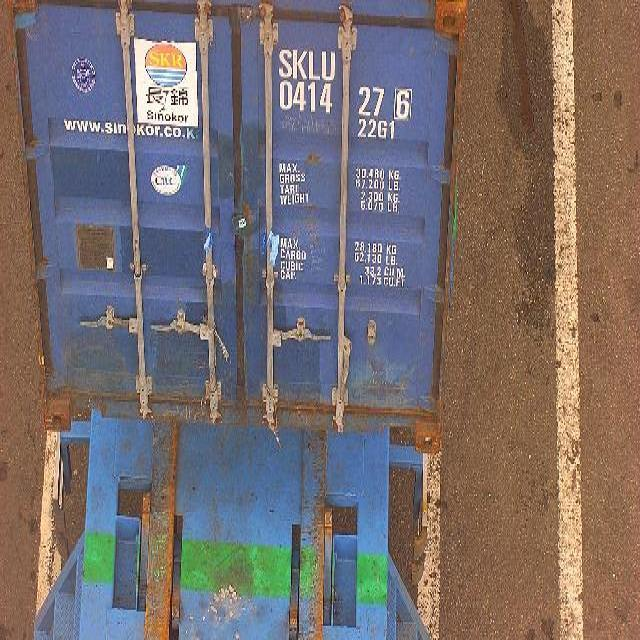ISO: (358, 120, 397, 151)
container_number: (275, 38, 414, 116)
